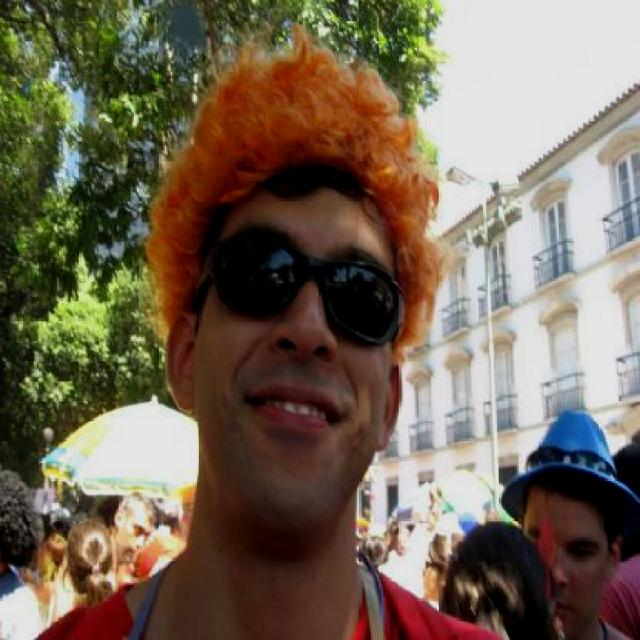face_nomask: (193, 240, 404, 475), (521, 523, 599, 623)
glasses: (182, 231, 408, 357)
head_nohelmet: (180, 51, 460, 211), (514, 434, 628, 514)
